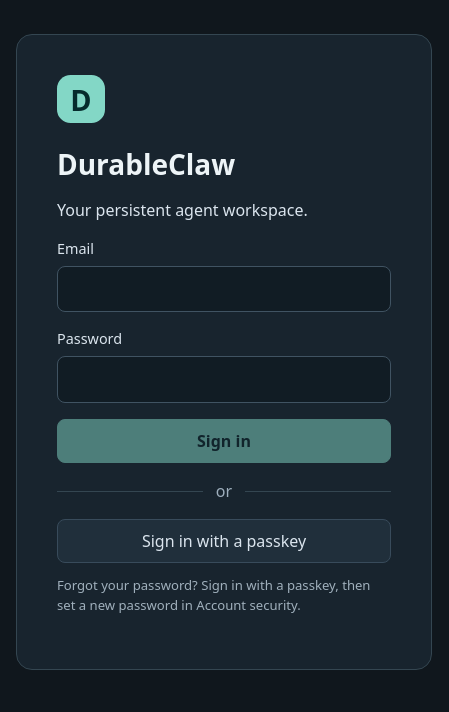
Test case: native sign-in › keeps rejected credentials and provider errors out of the page and never opens a workspace
Type "owner@example.com" into the field labelled "Email" at (224, 289), box [57,266,391,312]
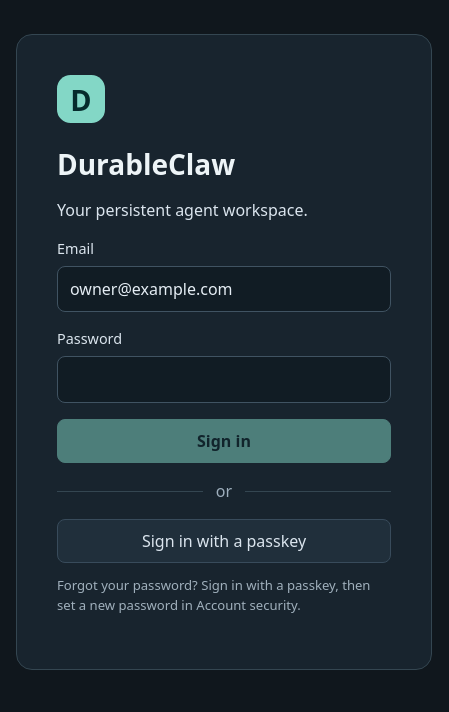
Type "a long private passphrase" into the password field labelled "Password" at (224, 380), box [57,356,391,403]
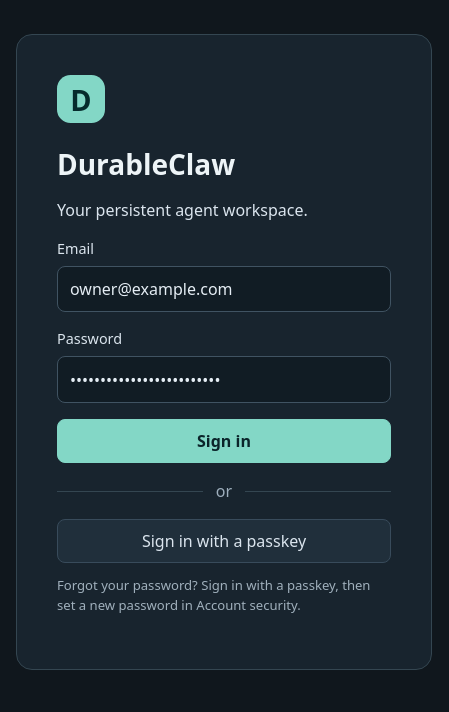
Click the button "Sign in" at (224, 441), box [57,419,391,463]
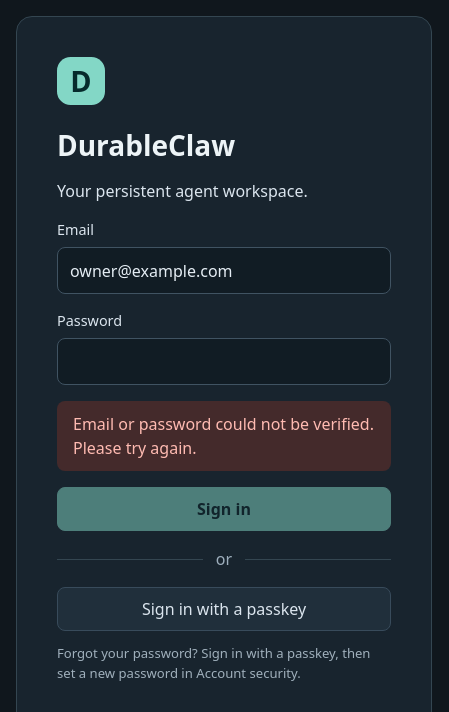
Expected: the message shows "Email or password", [73,413,374,459]
Expected: the password field labelled "Password" is empty, [57,338,391,385]
